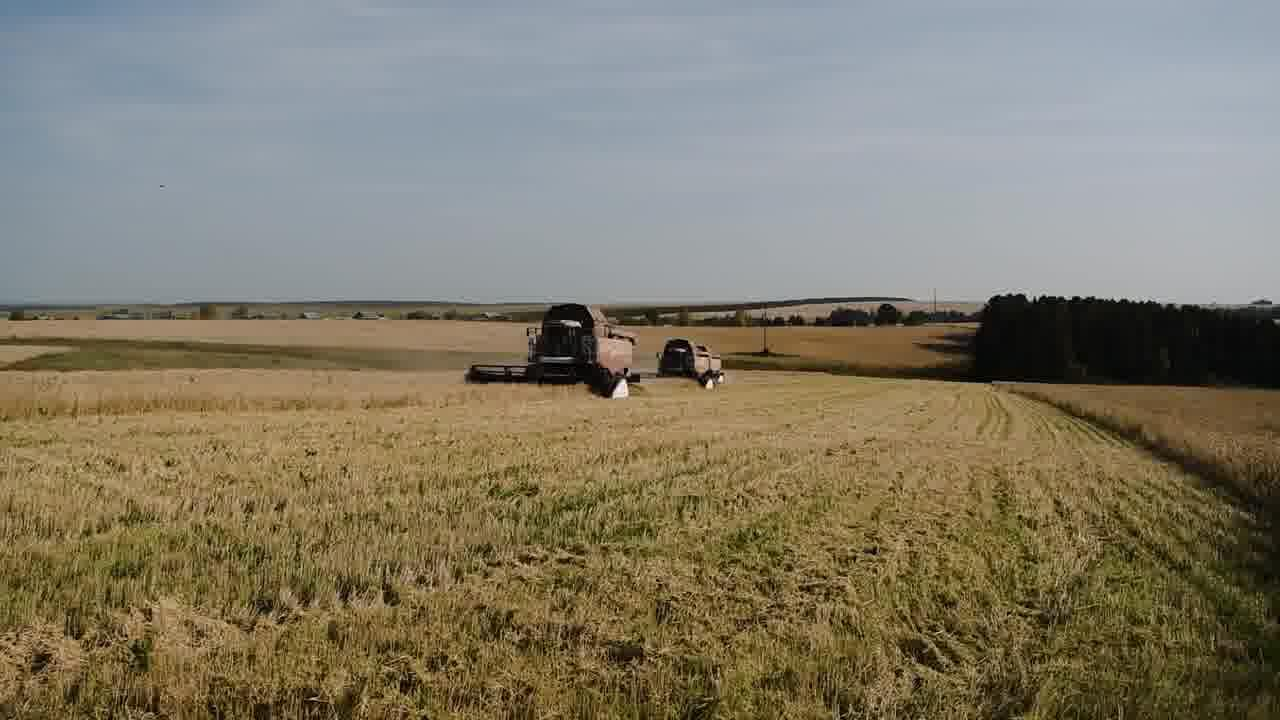combine harvester: (462, 299, 643, 406), (634, 335, 731, 395)
